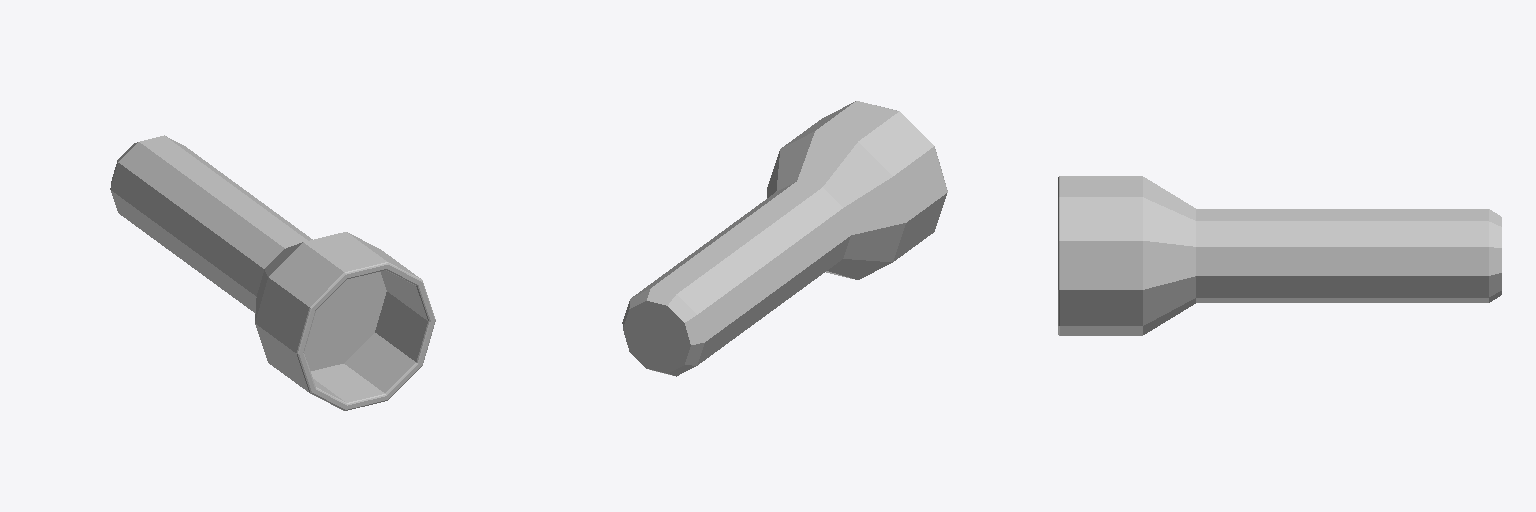
The model's file is Lanterna.obj.
3 renders of one model, left to right at view 1: azimuth 30°, elevation 25°; view 2: azimuth 150°, elevation 25°; view 3: azimuth 270°, elevation 25°, orthographic.
Parts seen in each view (by area): view 1: pCylinder1; view 2: pCylinder1; view 3: pCylinder1.
Boxes of the visible parts, box(x1,y1,x2,y2) form: pCylinder1: box(110, 135, 435, 410); pCylinder1: box(622, 101, 947, 376); pCylinder1: box(1058, 176, 1501, 335).
Bounding box in the file's own units: 1.04 × 0.9904 × 2.87.